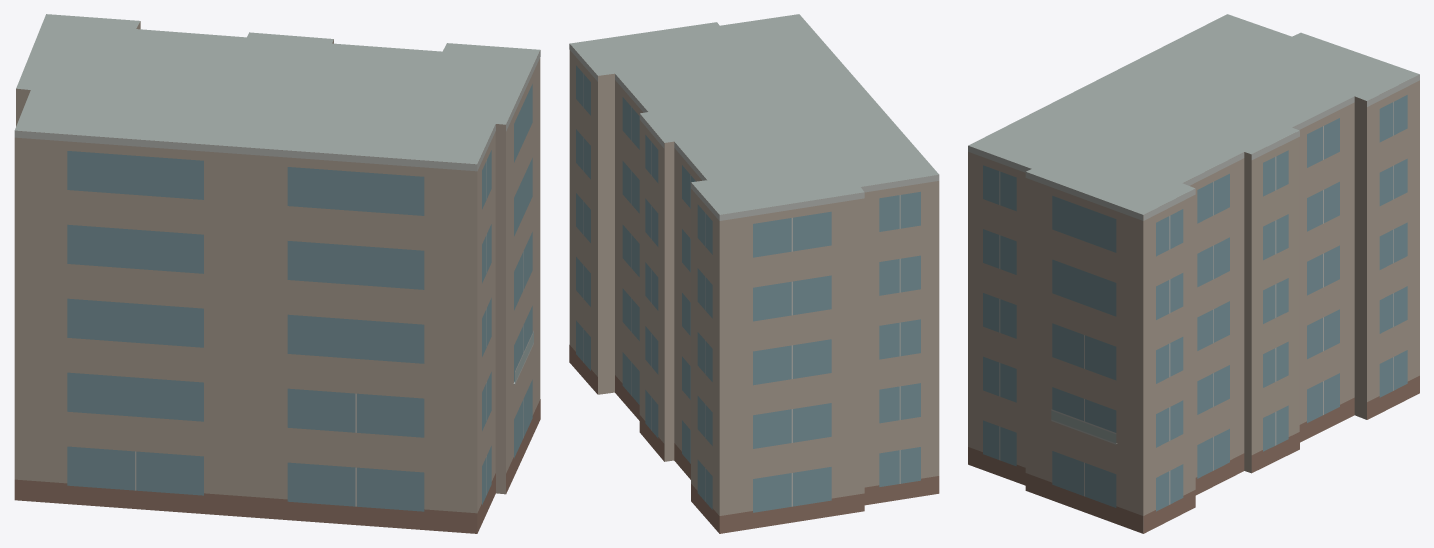
File: survey-upis-32681164.glb
The picture shows the model from 3 angles, left to right: view 1: azimuth 30°, elevation 25°; view 2: azimuth 150°, elevation 25°; view 3: azimuth 270°, elevation 25°; orthographic projection. The views are drawn at different scales.
Visible parts, largest first — view 1: survey-upis-32681164.tmp; view 2: survey-upis-32681164.tmp; view 3: survey-upis-32681164.tmp.
Part boxes in pixels (bbox=[...]): survey-upis-32681164.tmp: bbox=[14, 14, 540, 533]; survey-upis-32681164.tmp: bbox=[569, 14, 939, 533]; survey-upis-32681164.tmp: bbox=[968, 14, 1419, 533].
Size of the model in its own units: 17.3 by 12.8 by 16.44.
